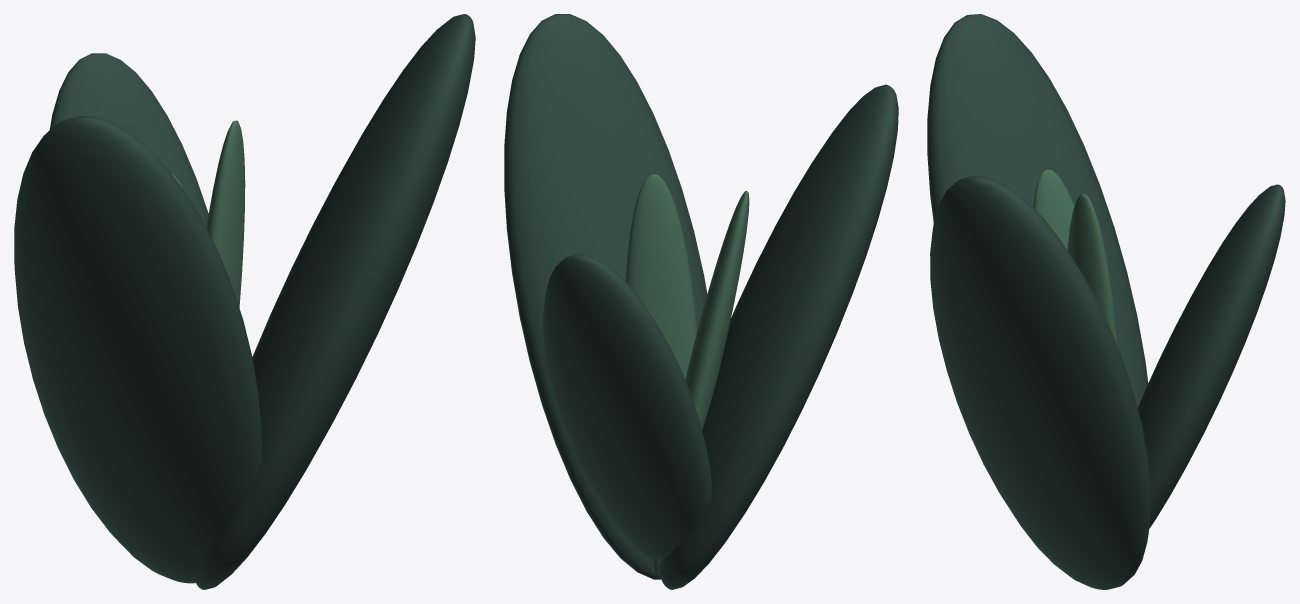
Rendered from sm_grass_02.fbx.
3 views of the same model, side by side, from view 1: azimuth 30°, elevation 25°; view 2: azimuth 150°, elevation 25°; view 3: azimuth 270°, elevation 25° (orthographic). The views are drawn at different scales.
Visible parts, largest first — view 1: sm_grass_02; view 2: sm_grass_02; view 3: sm_grass_02.
Boxes of the visible parts, bbox=[...] form: sm_grass_02: bbox=[14, 14, 475, 589]; sm_grass_02: bbox=[504, 14, 898, 589]; sm_grass_02: bbox=[927, 14, 1285, 589].
Size of the model in its own units: 1.73 by 2.18 by 1.44.
